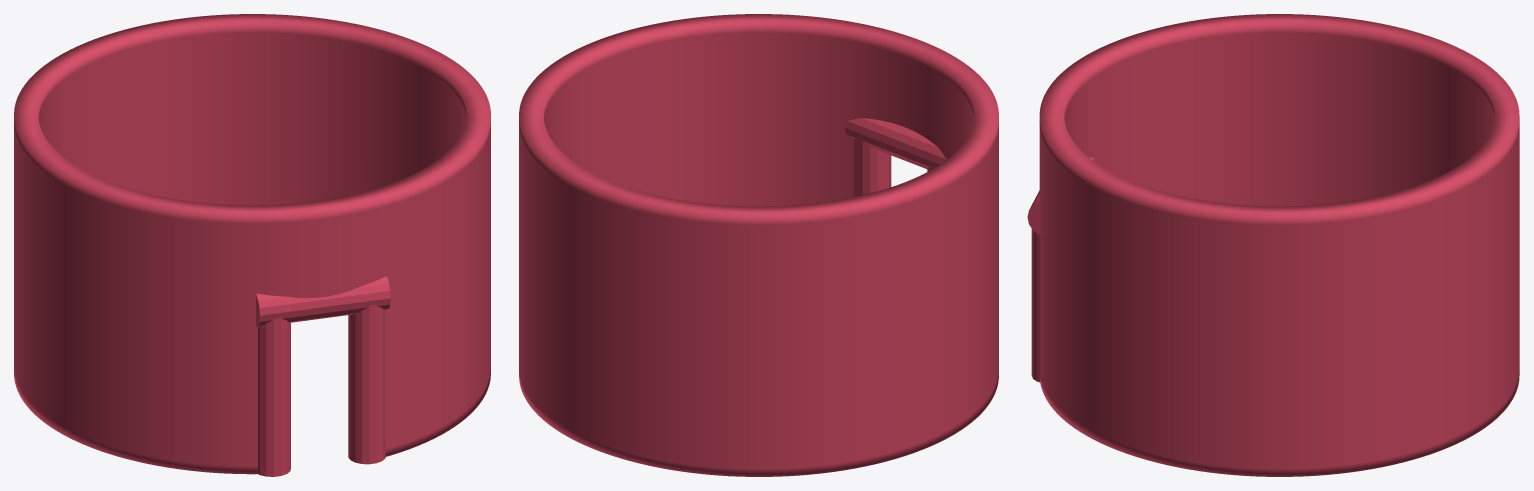
File: HutWalls.fbx
3 views of the same model, side by side, from view 1: azimuth 30°, elevation 25°; view 2: azimuth 150°, elevation 25°; view 3: azimuth 270°, elevation 25° (orthographic).
Parts seen in each view (by area): view 1: HutWalls; view 2: HutWalls; view 3: HutWalls.
Boxes of the visible parts, <box> form: HutWalls: <box>14,14,490,476</box>; HutWalls: <box>519,14,998,476</box>; HutWalls: <box>1027,14,1519,476</box>.
Size of the model in its own units: 602 by 360 by 617.
